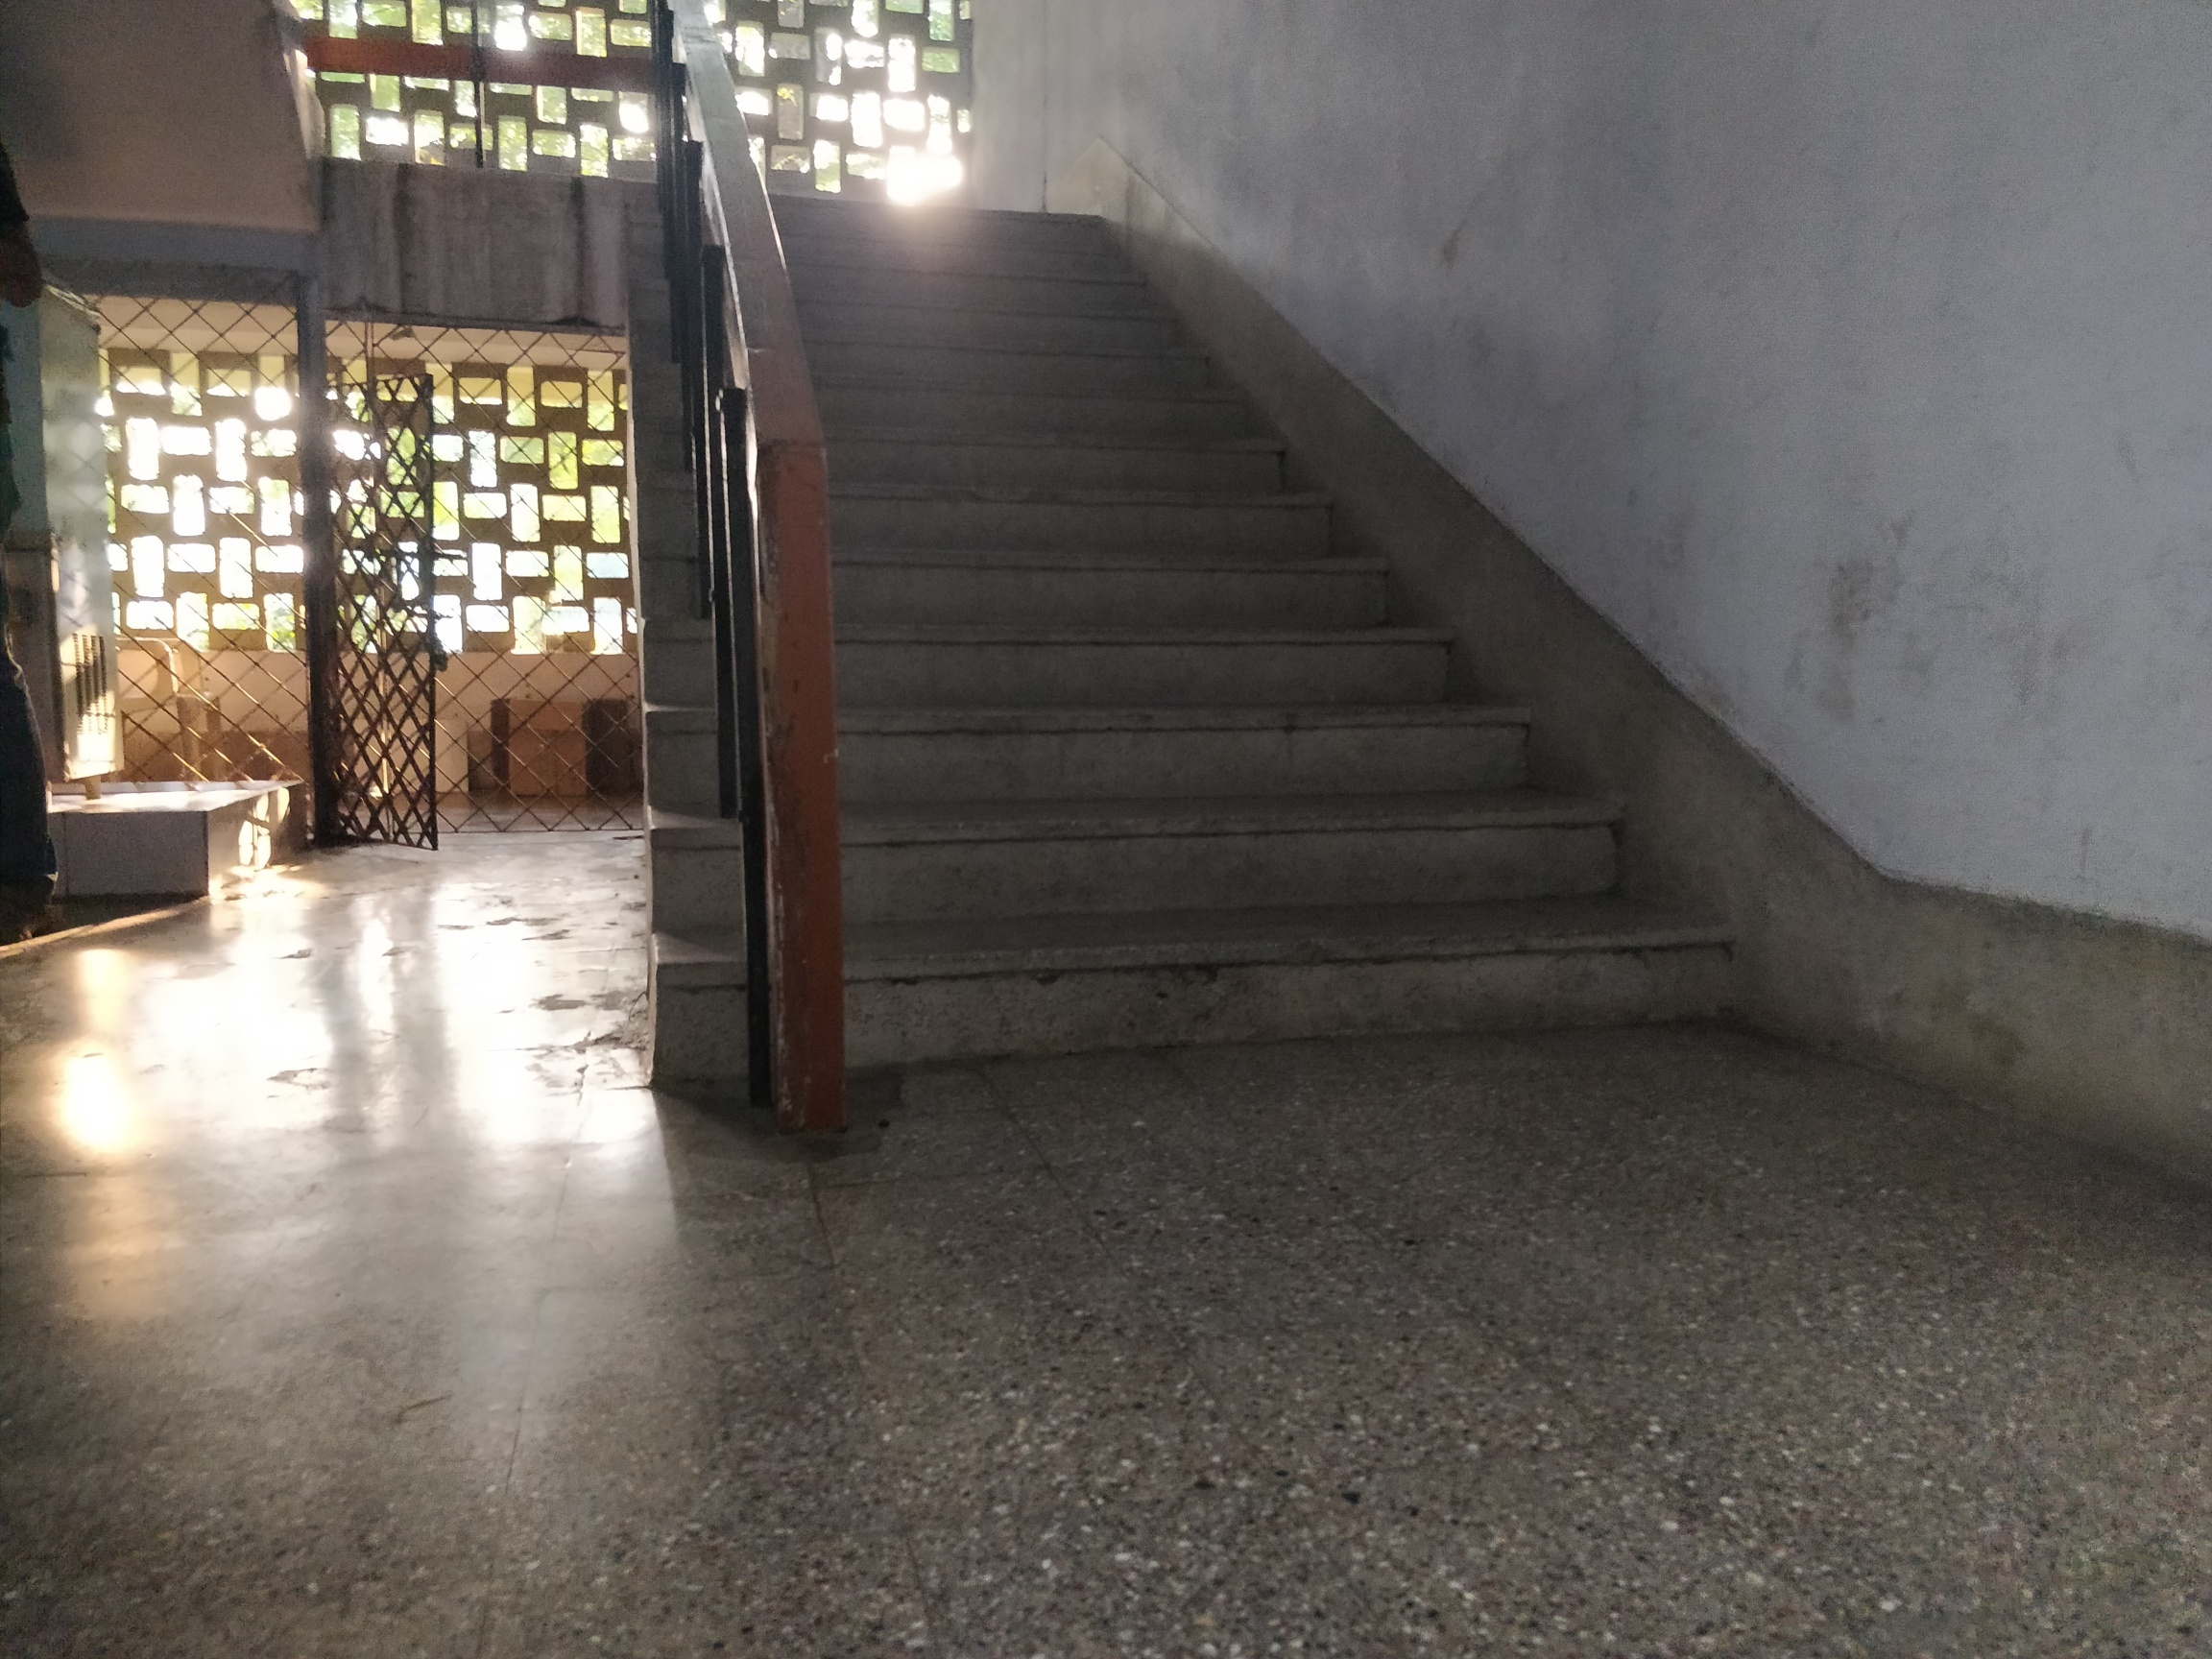stairs_up: (611, 157, 1709, 1087)
